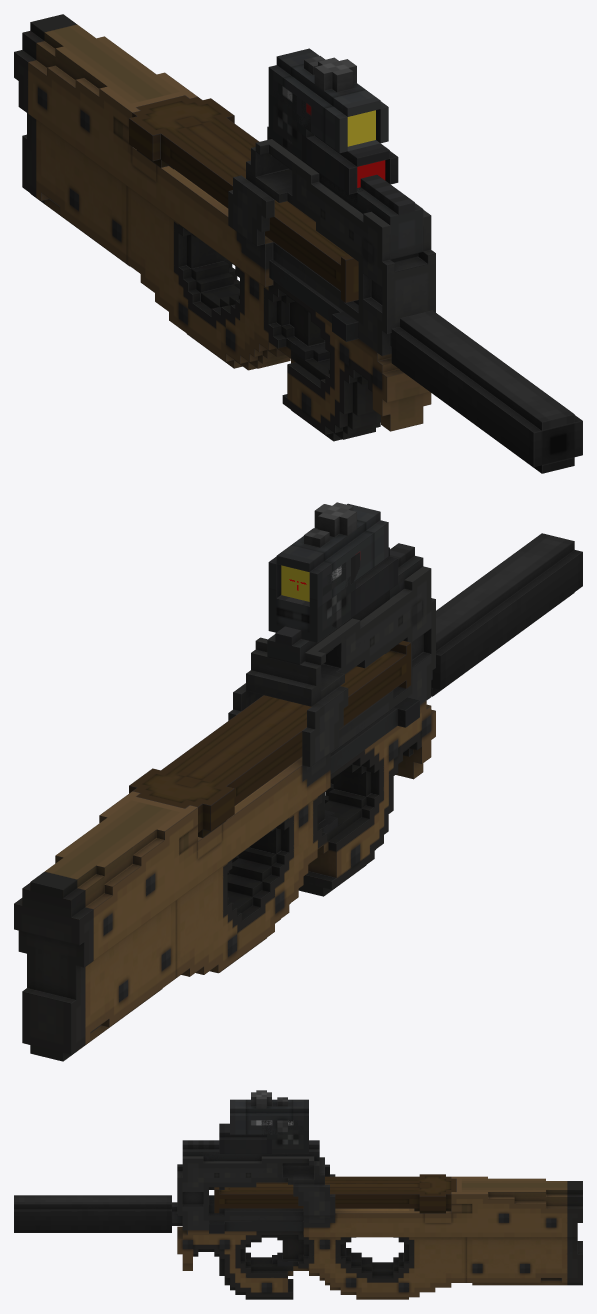
3 views of the same model, one above another, from view 1: azimuth 30°, elevation 25°; view 2: azimuth 150°, elevation 25°; view 3: azimuth 270°, elevation 25° (orthographic). The views are drawn at different scales.
Parts seen in each view (by area): view 1: P90, SILENCER_6X6, P90_CLIP, SCOPE_TASCO, P90_PLANK, P90_SCOPE_DEFAULT, P90_BOLT, SCOPE_EOTECH; view 2: P90, P90_CLIP, SILENCER_6X6, SCOPE_TASCO, P90_PLANK (×2), SCOPE_EOTECH, P90_BOLT, P90_SCOPE_DEFAULT; view 3: P90, P90_CLIP, SILENCER_6X6, SCOPE_TASCO, P90_PLANK (×2), P90_SCOPE_DEFAULT, P90_BOLT, SCOPE_EOTECH.
Part boxes in pixels (x1,y1,x2,y2): P90: [14, 14, 435, 441]; SILENCER_6X6: [391, 310, 582, 473]; P90_CLIP: [129, 95, 358, 302]; SCOPE_TASCO: [268, 48, 388, 153]; P90_PLANK: [267, 126, 423, 262]; P90_SCOPE_DEFAULT: [301, 134, 398, 203]; P90_BOLT: [269, 259, 358, 341]; SCOPE_EOTECH: [268, 83, 380, 159]; P90: [14, 566, 435, 1061]; P90_CLIP: [129, 640, 411, 837]; SILENCER_6X6: [431, 533, 582, 696]; SCOPE_TASCO: [268, 502, 388, 627]; P90_PLANK (×2): [267, 543, 423, 664]; SCOPE_EOTECH: [268, 562, 355, 642]; P90_BOLT: [330, 697, 419, 774]; P90_SCOPE_DEFAULT: [328, 547, 398, 635]; P90: [172, 1156, 582, 1299]; P90_CLIP: [214, 1174, 456, 1213]; SILENCER_6X6: [14, 1195, 171, 1232]; SCOPE_TASCO: [230, 1090, 308, 1153]; P90_PLANK (×2): [182, 1140, 319, 1161]; P90_SCOPE_DEFAULT: [198, 1123, 287, 1159]; P90_BOLT: [209, 1220, 303, 1233]; SCOPE_EOTECH: [267, 1120, 308, 1153].
Bounding box in the file's own units: 0.0984 × 0.4134 × 1.06.
9 materials, 9 textured.
